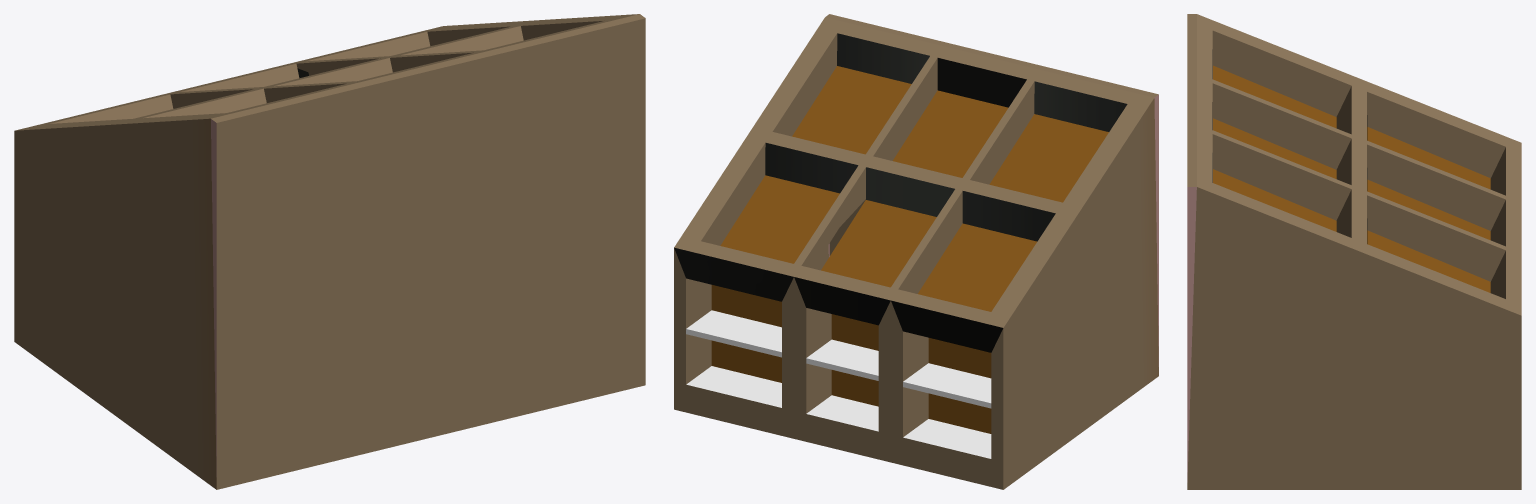
Rendered from Scaffale Ortofrutta.fbx.
3 renders of one model, left to right at view 1: azimuth 30°, elevation 25°; view 2: azimuth 150°, elevation 25°; view 3: azimuth 270°, elevation 25°, orthographic. The views are drawn at different scales.
Visible parts, largest first — view 1: fruttiera_sinistra; view 2: fruttiera_sinistra; view 3: fruttiera_sinistra.
Boxes of the visible parts, x1,y1,x2,y2 form: fruttiera_sinistra: [14, 14, 645, 489]; fruttiera_sinistra: [674, 14, 1158, 489]; fruttiera_sinistra: [1187, 14, 1521, 489].
Size of the model in its own units: 126 by 103 by 103.
